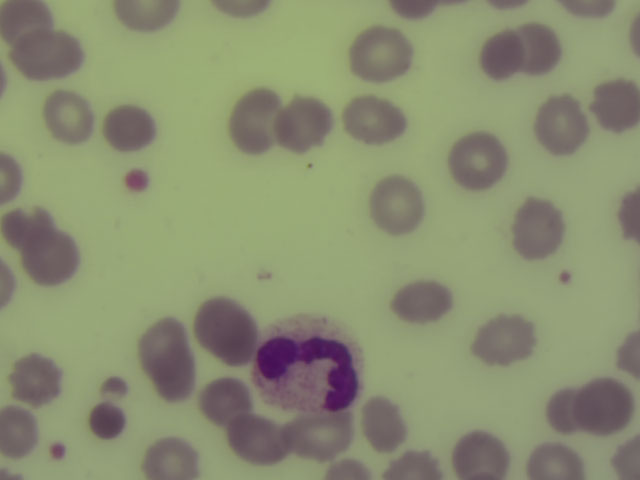Platelets: (121, 164, 151, 194), (551, 264, 581, 289), (46, 441, 71, 460)
RBC: (141, 320, 193, 388), (230, 83, 278, 155), (11, 32, 81, 80), (287, 413, 351, 462), (589, 74, 640, 130), (395, 275, 447, 324), (370, 181, 422, 230), (579, 383, 631, 432), (479, 316, 531, 365), (512, 202, 564, 251), (457, 431, 509, 480), (357, 398, 409, 447), (234, 414, 286, 463), (196, 375, 248, 424), (199, 304, 251, 353), (12, 355, 64, 404), (533, 101, 585, 150), (454, 137, 506, 186), (349, 95, 401, 144), (355, 28, 407, 77), (278, 97, 330, 146), (25, 231, 77, 280), (1, 202, 53, 251), (104, 101, 156, 150), (41, 92, 93, 141), (519, 23, 565, 78), (476, 27, 523, 80), (144, 437, 198, 480), (112, 1, 181, 34), (383, 444, 440, 480), (1, 1, 49, 43), (530, 442, 582, 480), (546, 387, 585, 435), (1, 404, 33, 462), (613, 185, 640, 245), (609, 329, 640, 376), (612, 437, 640, 480), (564, 1, 615, 23)
WBC: (254, 316, 365, 414)
